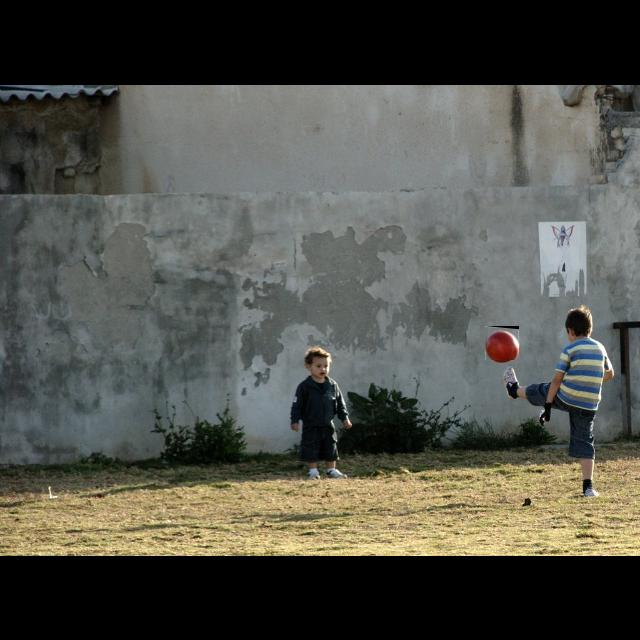Football: (485, 326, 519, 360)
